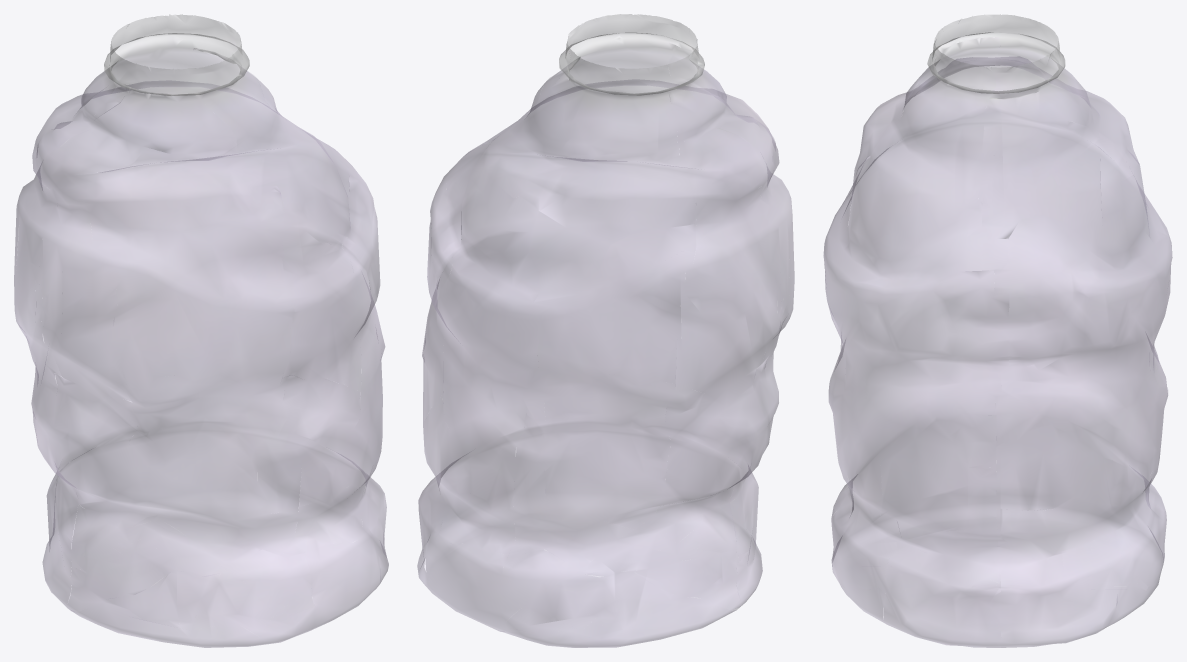
File: 07_16_nj_et_prp_l_trs-opt-v50.glb
The picture shows the model from 3 angles, left to right: view 1: azimuth 30°, elevation 25°; view 2: azimuth 150°, elevation 25°; view 3: azimuth 270°, elevation 25°; orthographic projection. The views are drawn at different scales.
Parts seen in each view (by area): view 1: prp; view 2: prp; view 3: prp.
Part boxes in pixels (x1,y1,x2,y2): prp: (14, 14, 388, 647); prp: (417, 14, 794, 647); prp: (823, 14, 1172, 647).
Size of the model in its own units: 0.1996 by 0.31 by 0.1872.
Materials: 1 (1 with a texture image).
